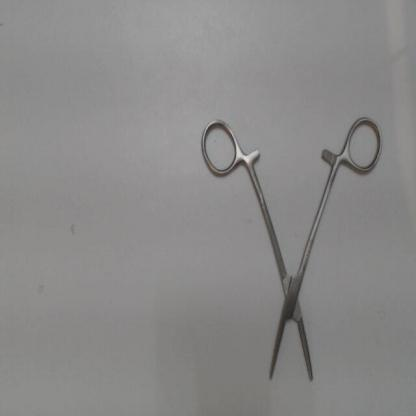Mayo Needle Holder: (196, 113, 386, 389)
